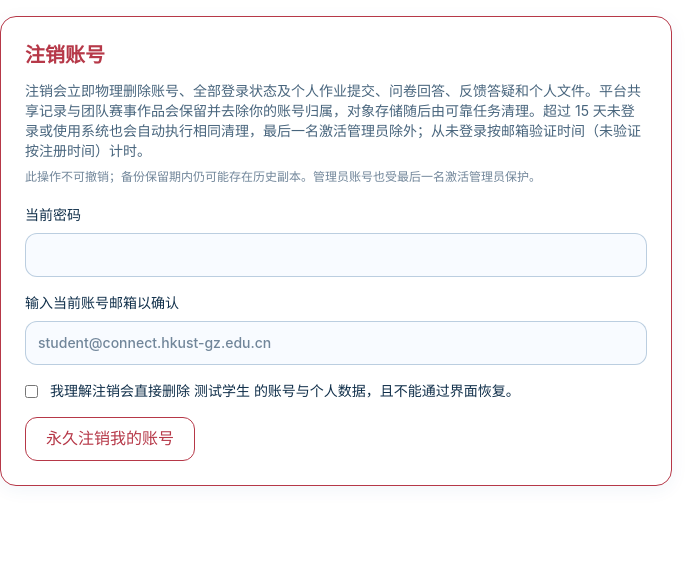
self-service account deletion › rejects a mismatched email before sending a destructive request
In the password field labelled "当前密码": x=336, y=255 [25,233,647,277], type "current-password"
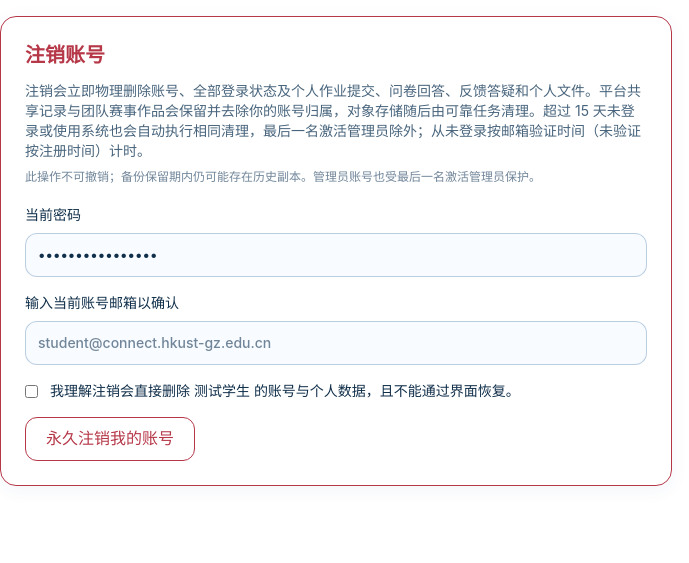
In the field labelled "输入当前账号邮箱以确认": x=336, y=343 [25,321,647,365], type "other@connect.hkust-gz.edu.cn"
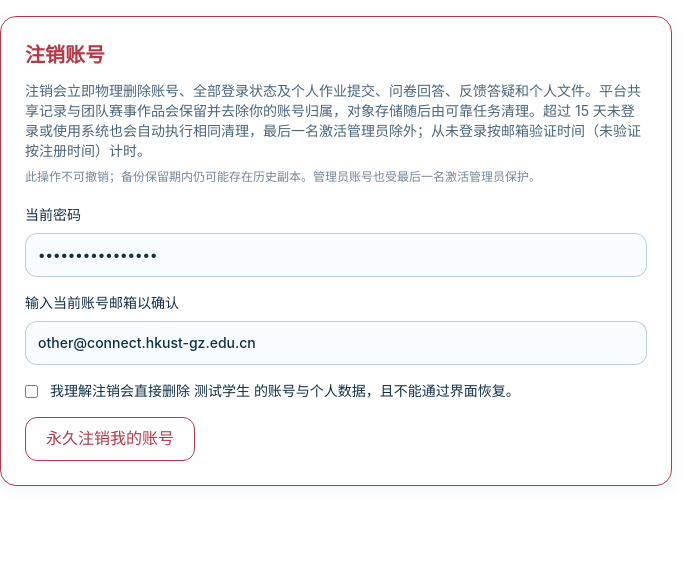
Click the checkbox labelled "我理解注销会直接删除 测试学生 的账号与个人数据，且不能通过界面恢复。": x=32, y=392 [25,385,38,398]
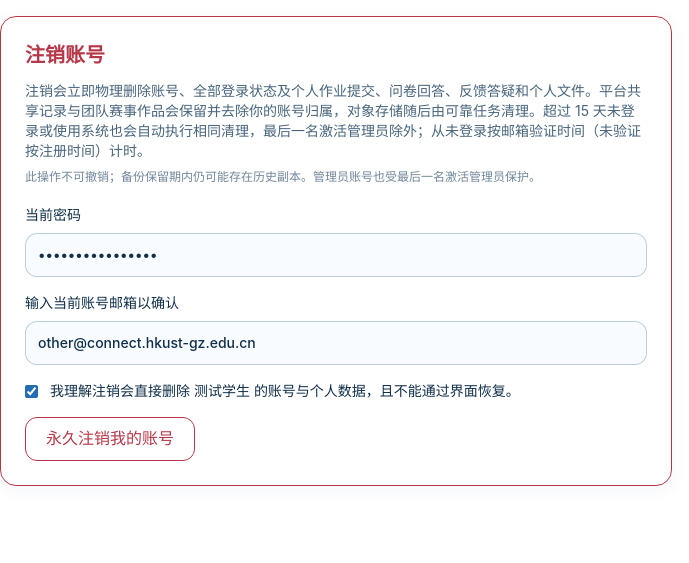
Click the button "永久注销我的账号": x=110, y=439 [25,417,195,461]
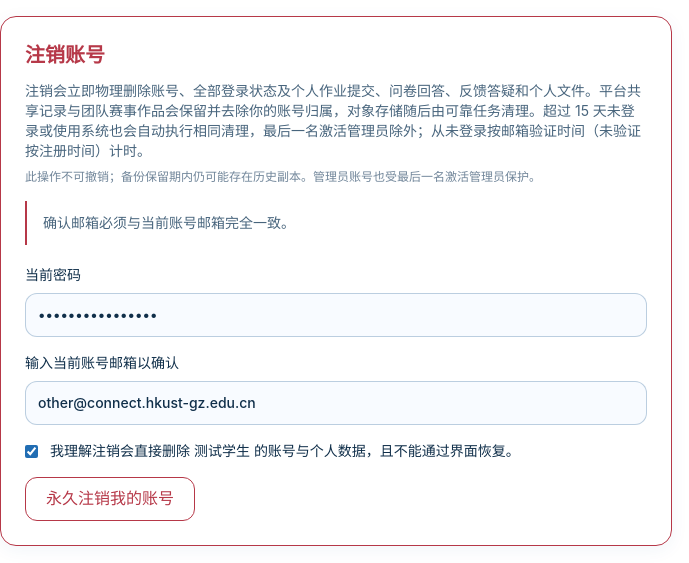
Now the text "确认邮箱必须与当前账号邮箱完全一致。" is shown, box [25,201,647,245]
